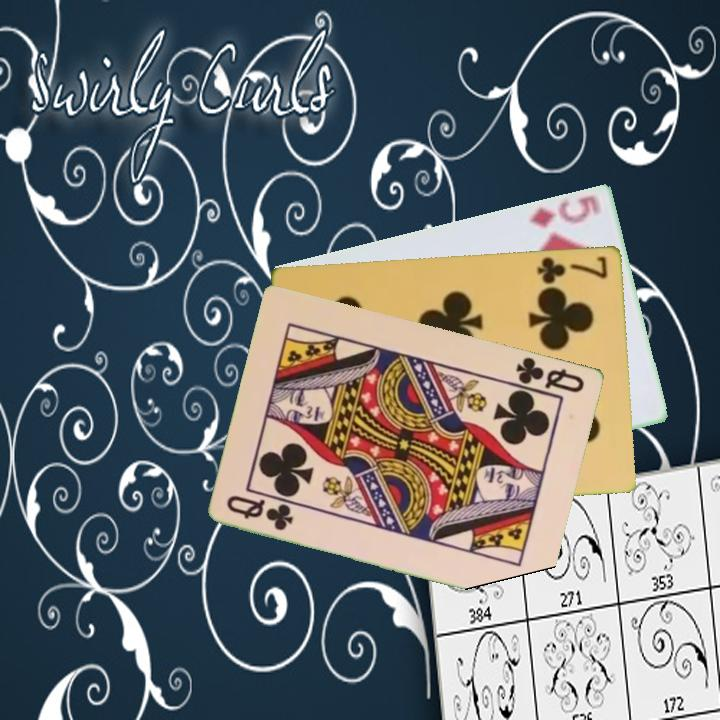5d: (526, 191, 605, 230)
7c: (533, 252, 611, 287)
Qc: (507, 353, 588, 398), (223, 491, 297, 534)
